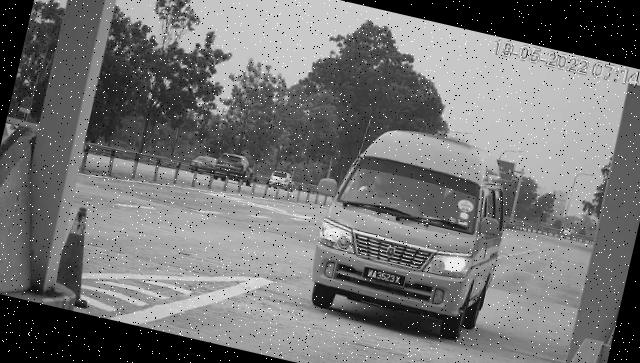License_Plate: (360, 265, 409, 292)
van: (303, 117, 522, 348)
